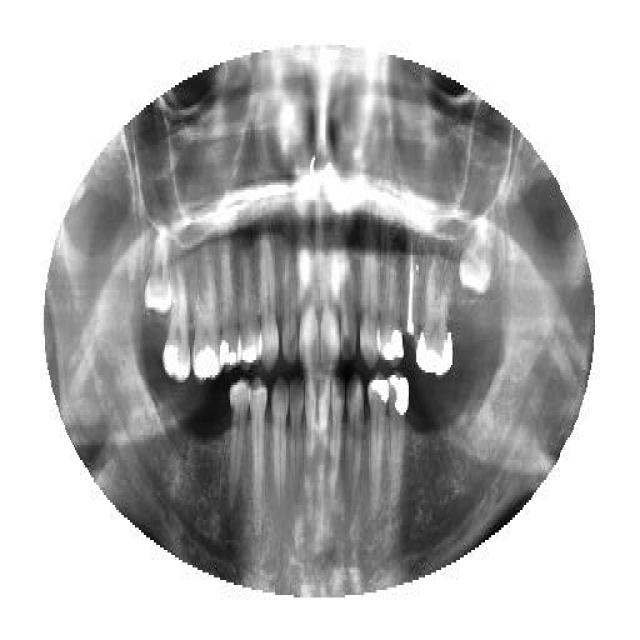Fillings: (416, 248, 454, 380), (162, 262, 192, 382), (192, 242, 218, 378), (382, 232, 402, 370), (368, 375, 388, 513), (220, 250, 241, 375), (389, 372, 409, 502), (239, 247, 261, 365)
